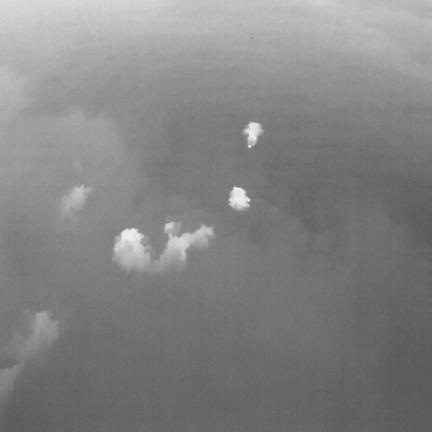flukeprints: (166, 224, 214, 256), (120, 228, 146, 249), (229, 186, 250, 211), (243, 122, 263, 148)
